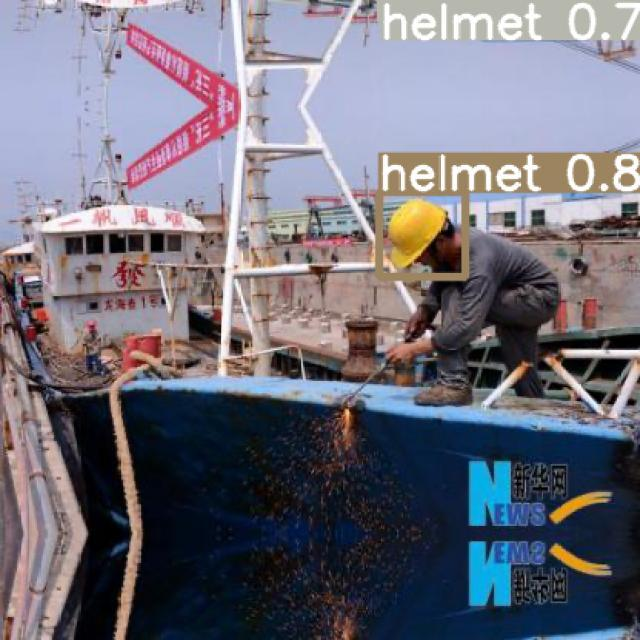Helmet: (386, 197, 446, 269)
